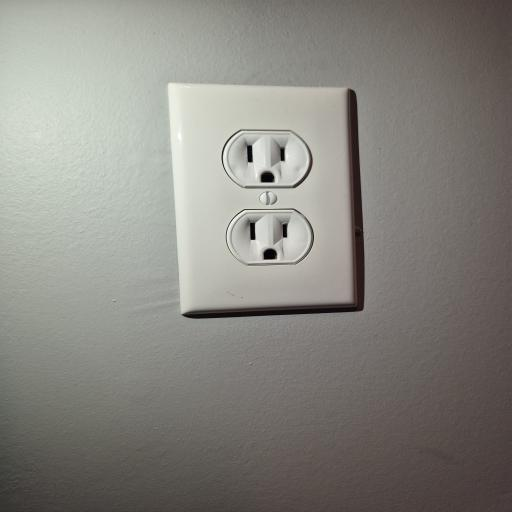outlet: (169, 83, 354, 311)
